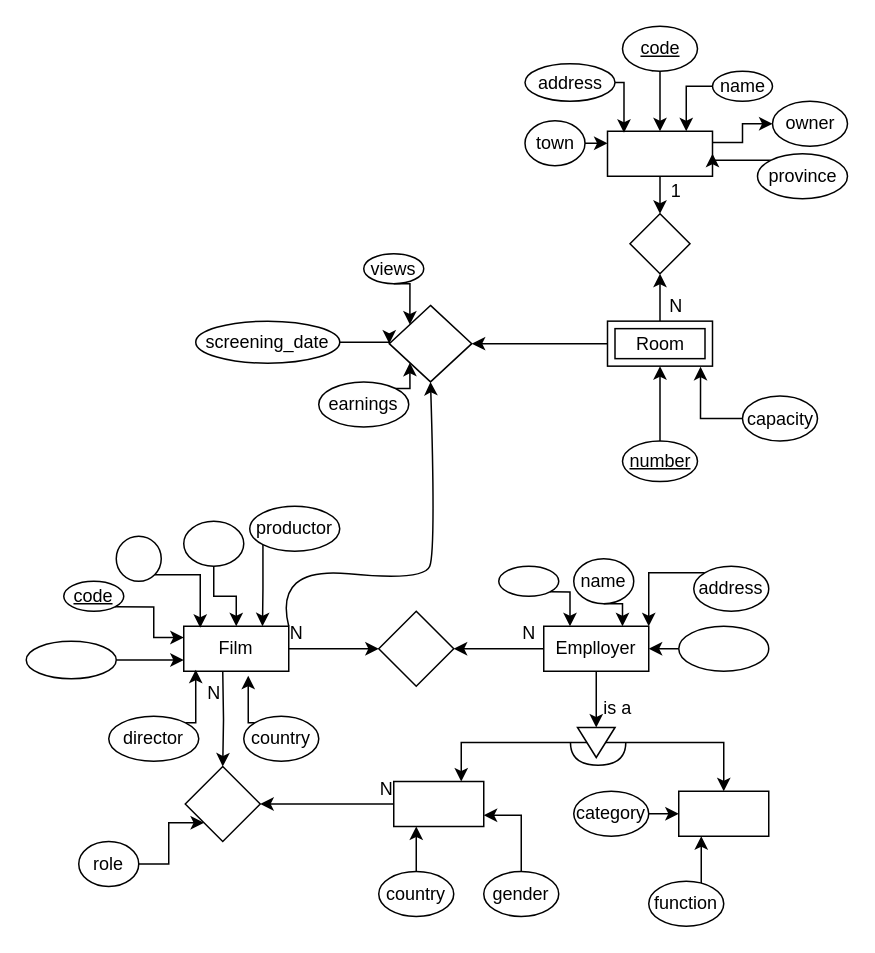
Some shapes in this 875 by 953 pixel diagram are drawn without their labels. The centre of each missing label's shape, as x and y in pixels:
"Actor" goes at point 438,803.
"budget" goes at point 70,659.
"have" goes at point 659,243.
"ID" goes at point 528,580.
"Operator" goes at point 723,813.
"play" goes at point 222,803.
"show" goes at point 430,343.
"telephone" goes at point 723,648.
"Theater" goes at point 659,153.
"title" goes at point 138,558.
"work" goes at point 415,648.
"year" goes at point 213,543.
